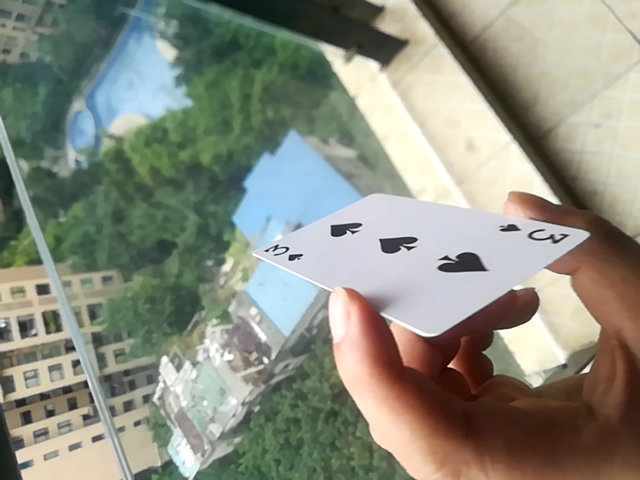ht 3: (251, 193, 595, 335)
